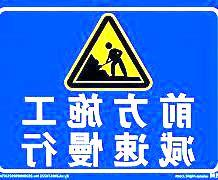sign: (2, 4, 213, 174)
